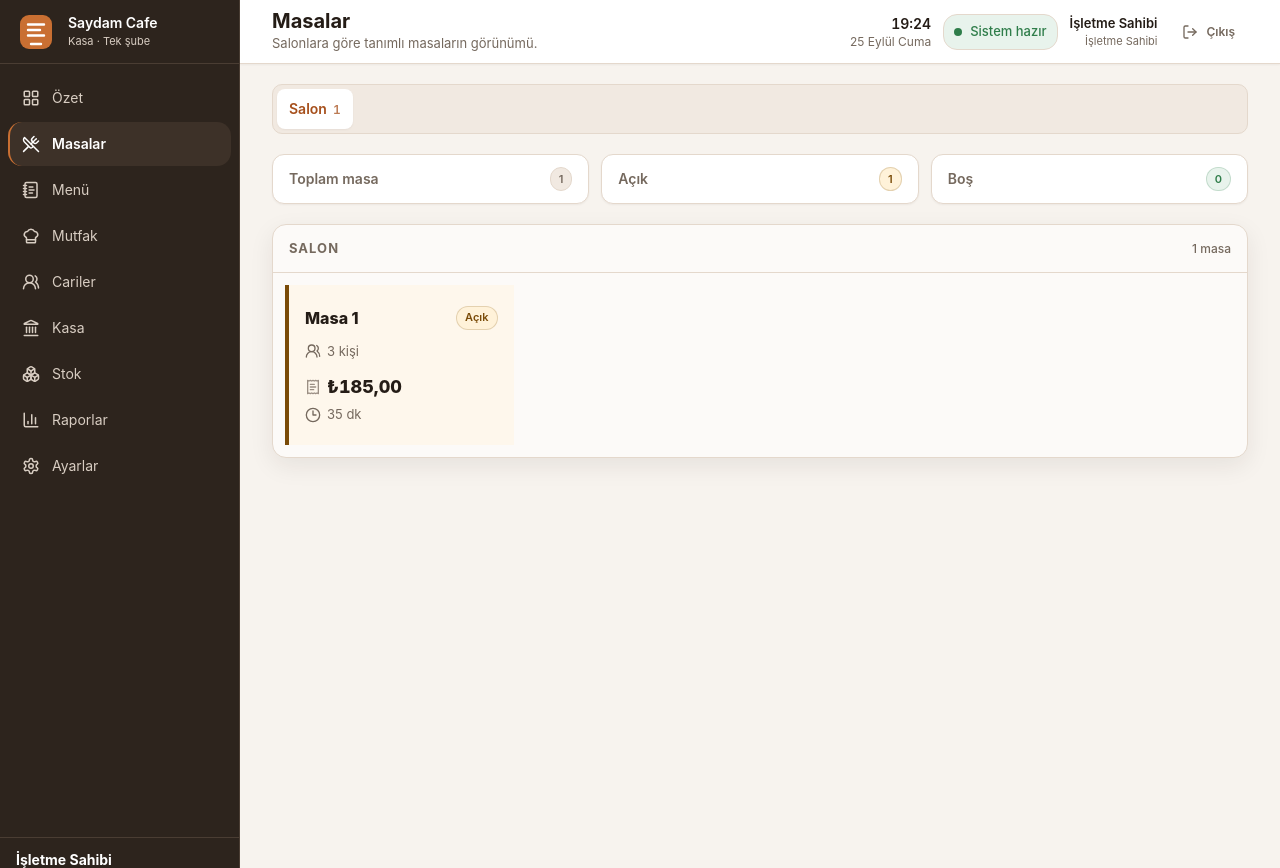
Masa ve adisyon ekranı › kalem ve kişi bazlı hesap bölme kontrollerini sunar
The image size is (1280, 868).
Click the button "Masa 1 Açık 3 kişi ₺185,00 35 dk": point(399, 365) [285,285,514,445]
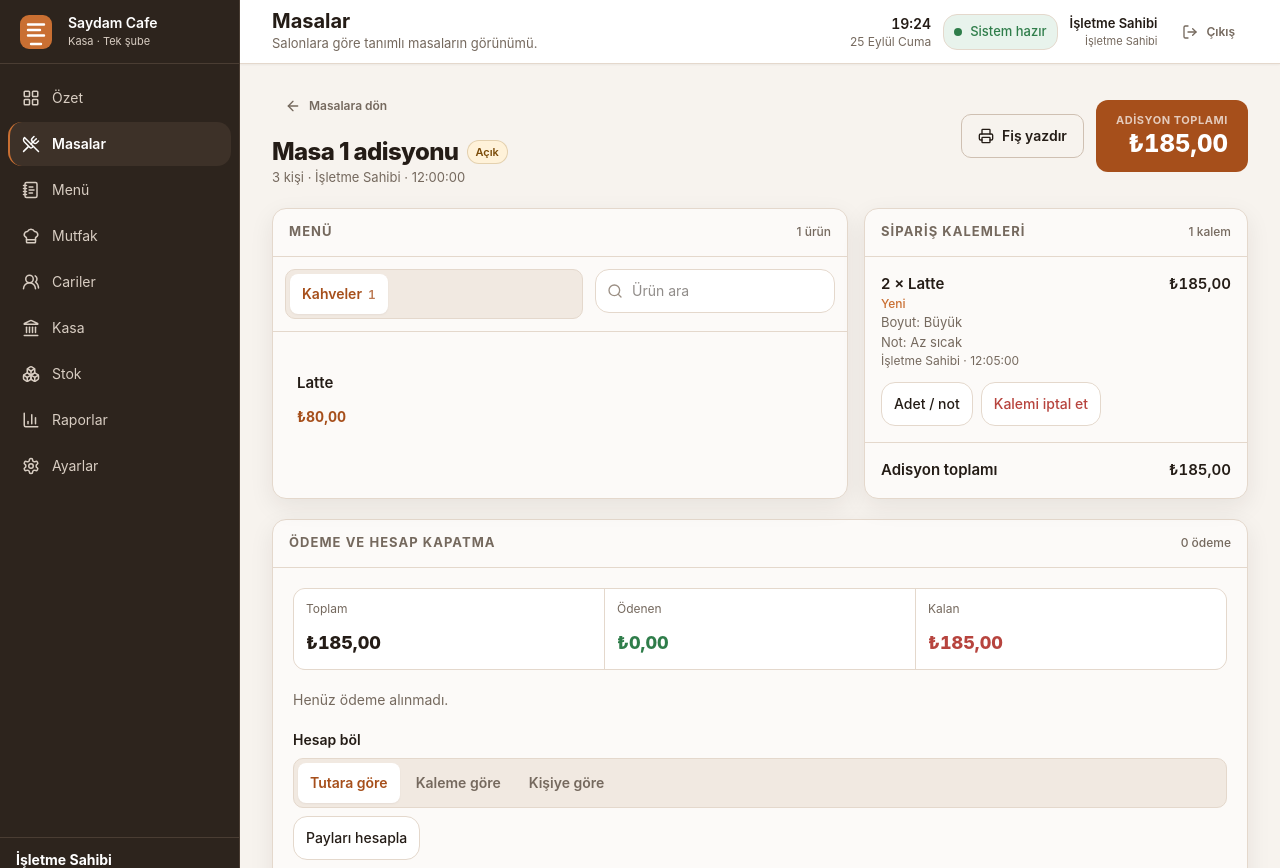
Click the button "Kişiye göre": point(566, 782) [517,762,616,802]
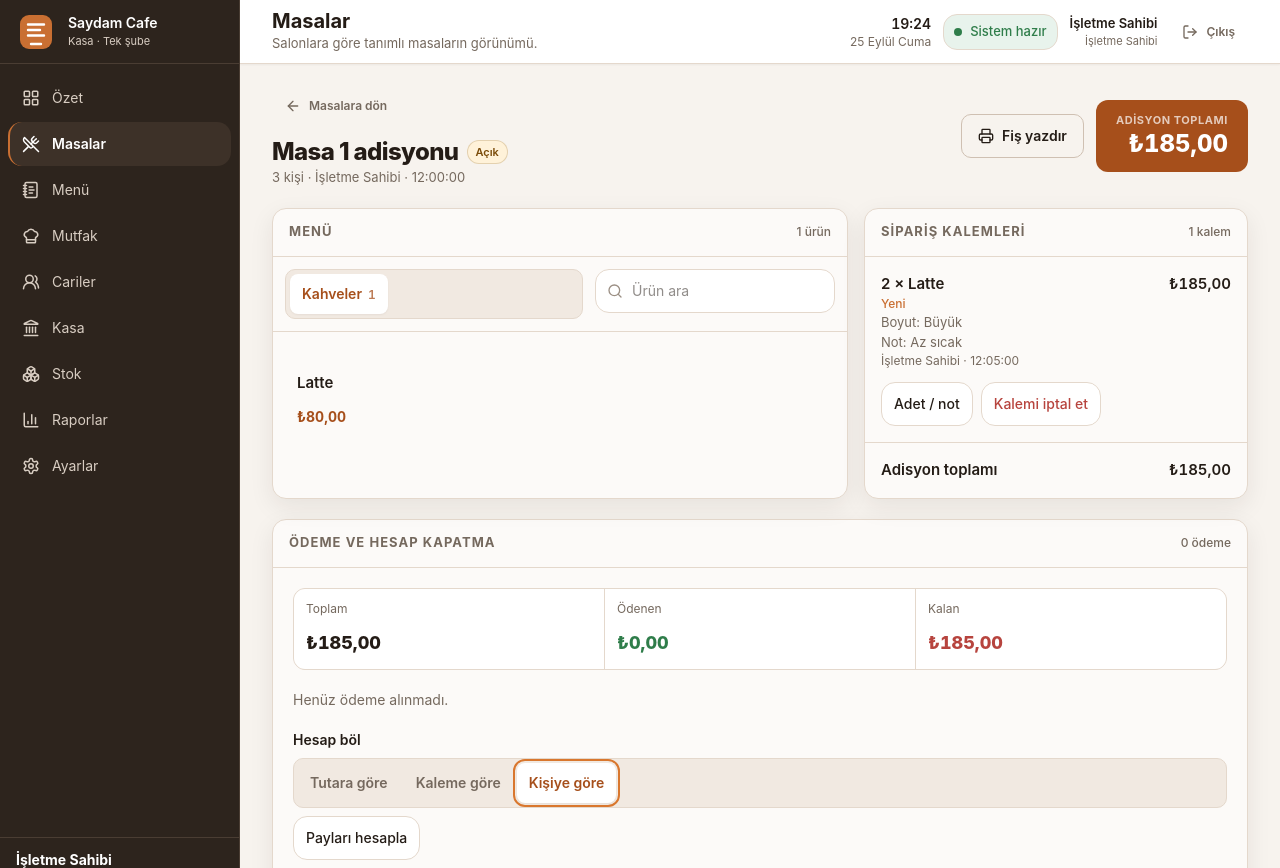
Click the button "Payları hesapla": point(357, 838) [293,816,420,860]
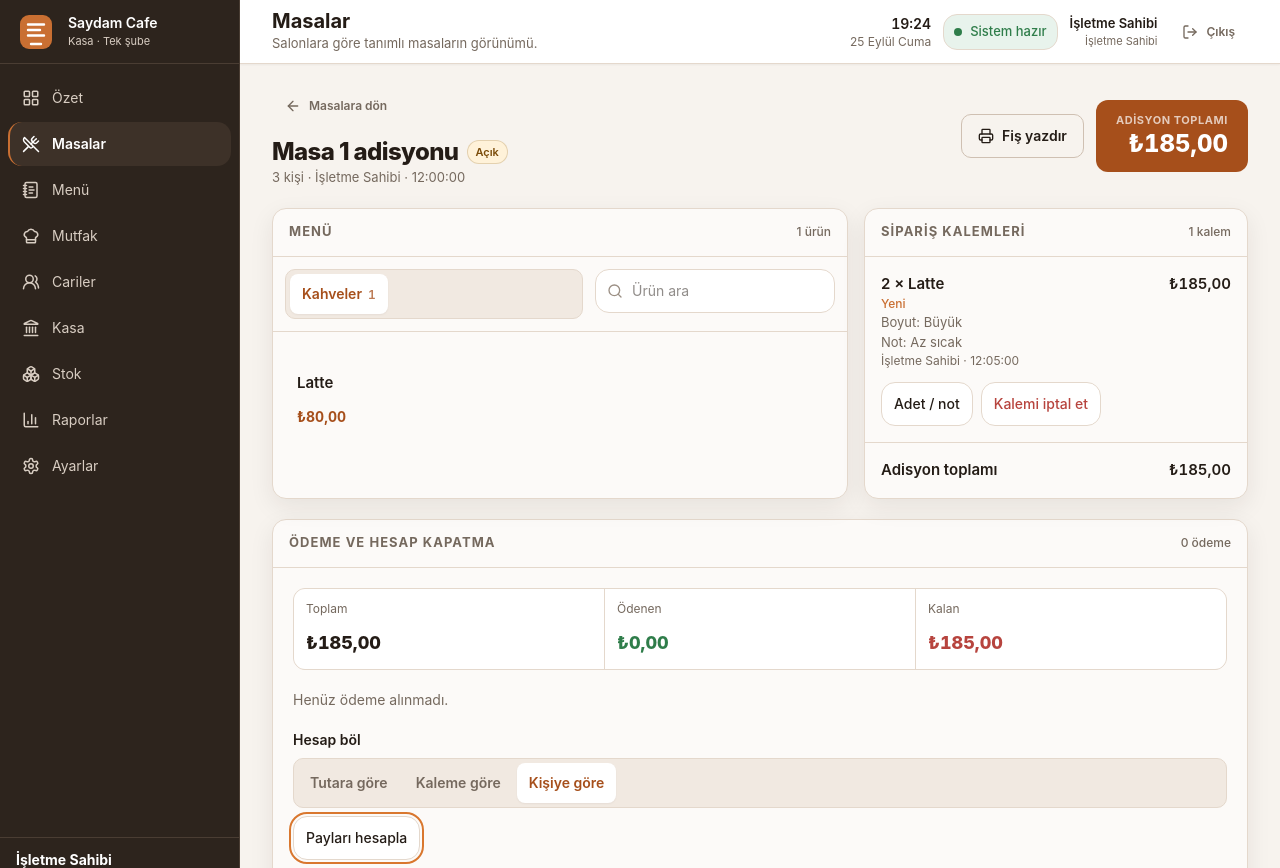
Click the button "Kaleme göre": point(458, 782) [404,762,513,802]
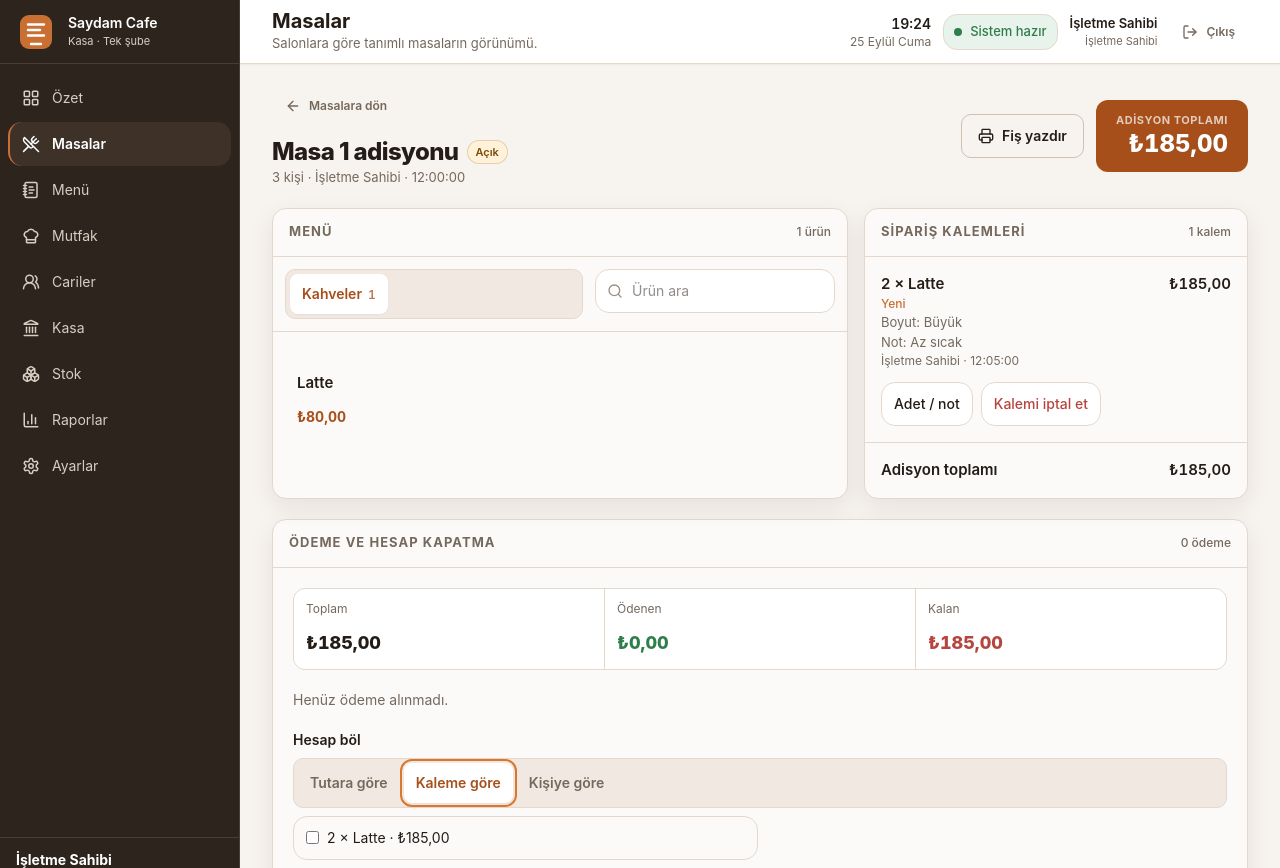
Check: the checkbox labelled "2 × Latte · ₺185,00" is shown, box [306,831,319,844]
